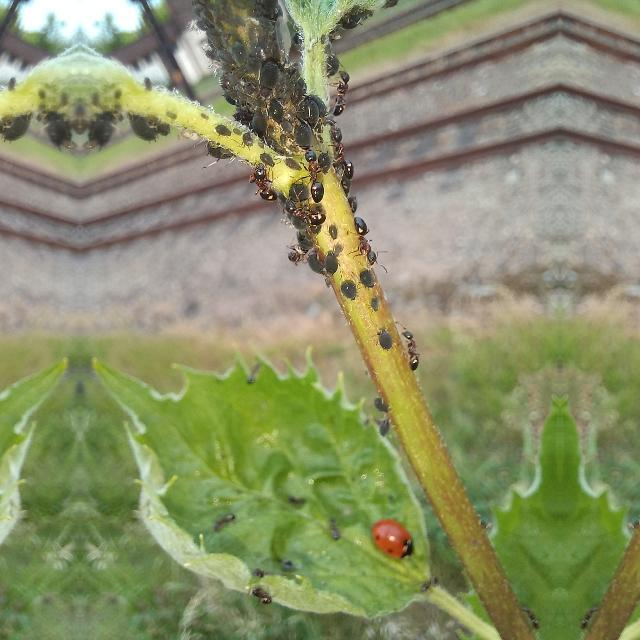Dolichoderus: (349, 206, 381, 268), (328, 117, 358, 181), (298, 143, 328, 205), (246, 158, 278, 210), (282, 193, 326, 230), (328, 62, 356, 118), (396, 322, 424, 376), (278, 245, 306, 269)
